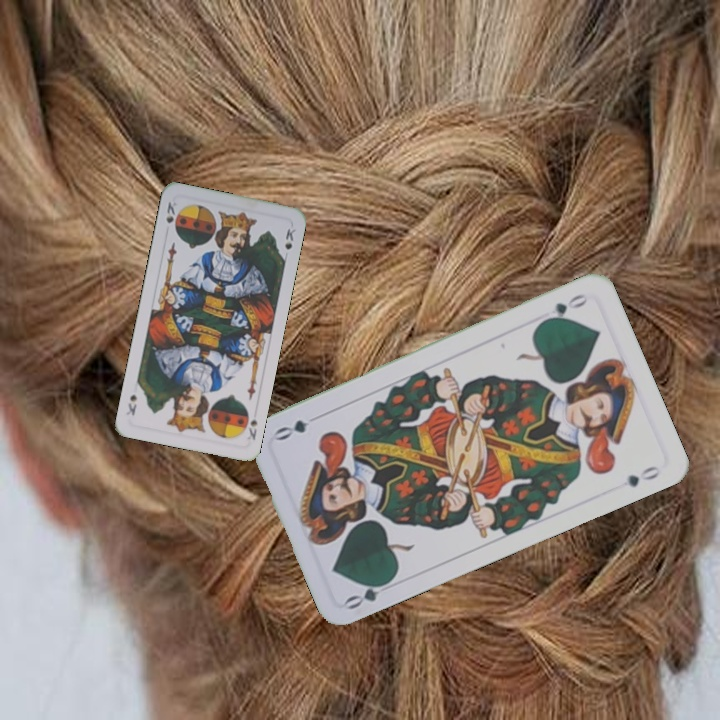GO: (341, 574, 396, 613), (537, 290, 590, 326)
SK: (243, 415, 260, 443), (162, 198, 178, 226)
